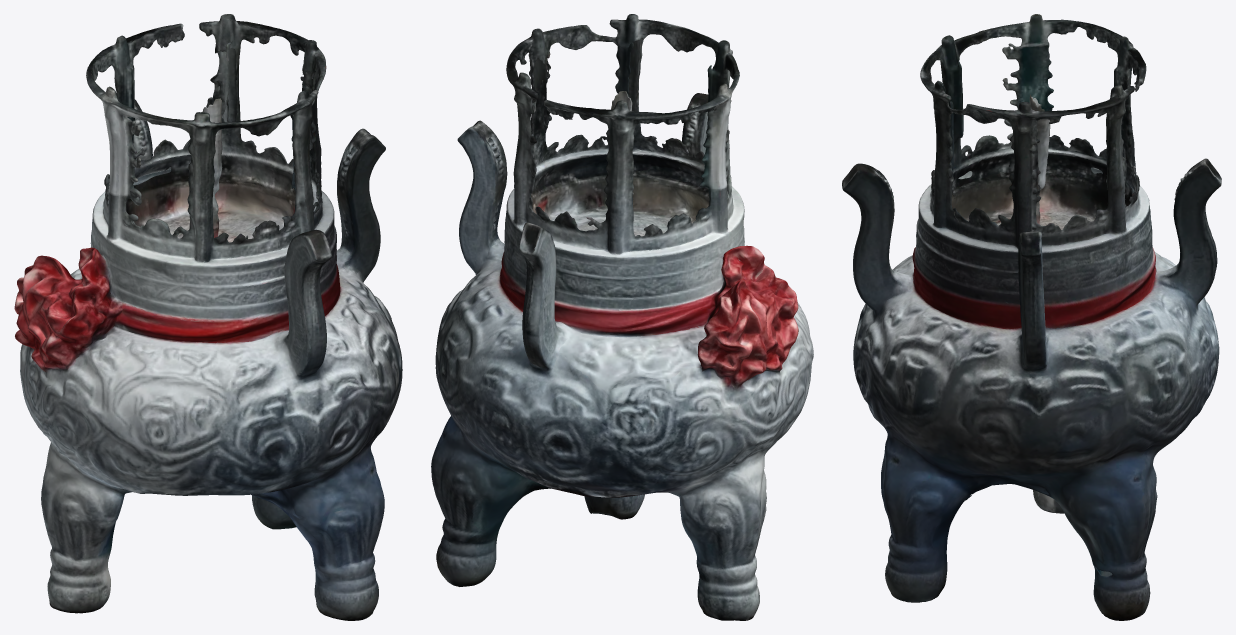
3 views of the same model, side by side, from view 1: azimuth 30°, elevation 25°; view 2: azimuth 150°, elevation 25°; view 3: azimuth 270°, elevation 25° (orthographic). The views are drawn at different scales.
Parts seen in each view (by area): view 1: world; view 2: world; view 3: world.
Part boxes in pixels (<box>): world: <box>14,14,402,620</box>; world: <box>431,14,813,620</box>; world: <box>842,14,1221,620</box>.
Bounding box in the file's own units: 0.6761 × 1 × 0.6873.
1 material, 1 textured.
